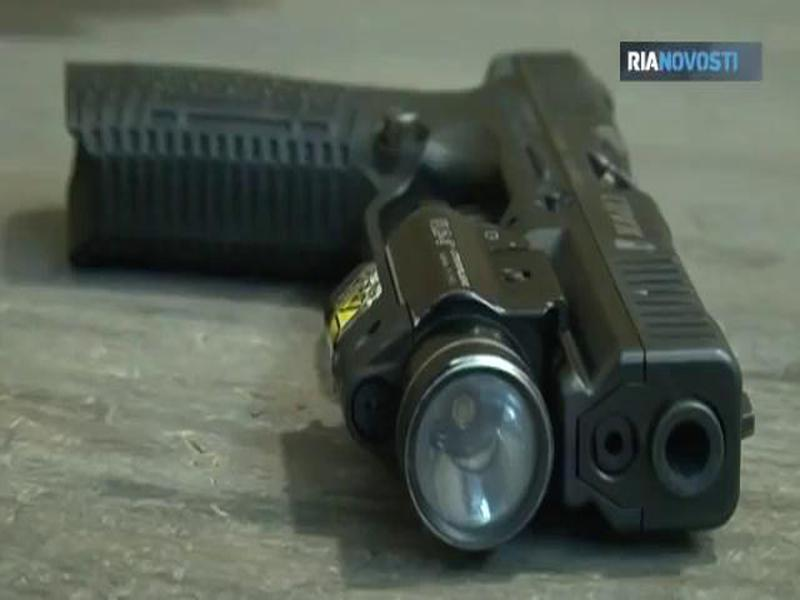Pistola: (52, 24, 777, 546)
